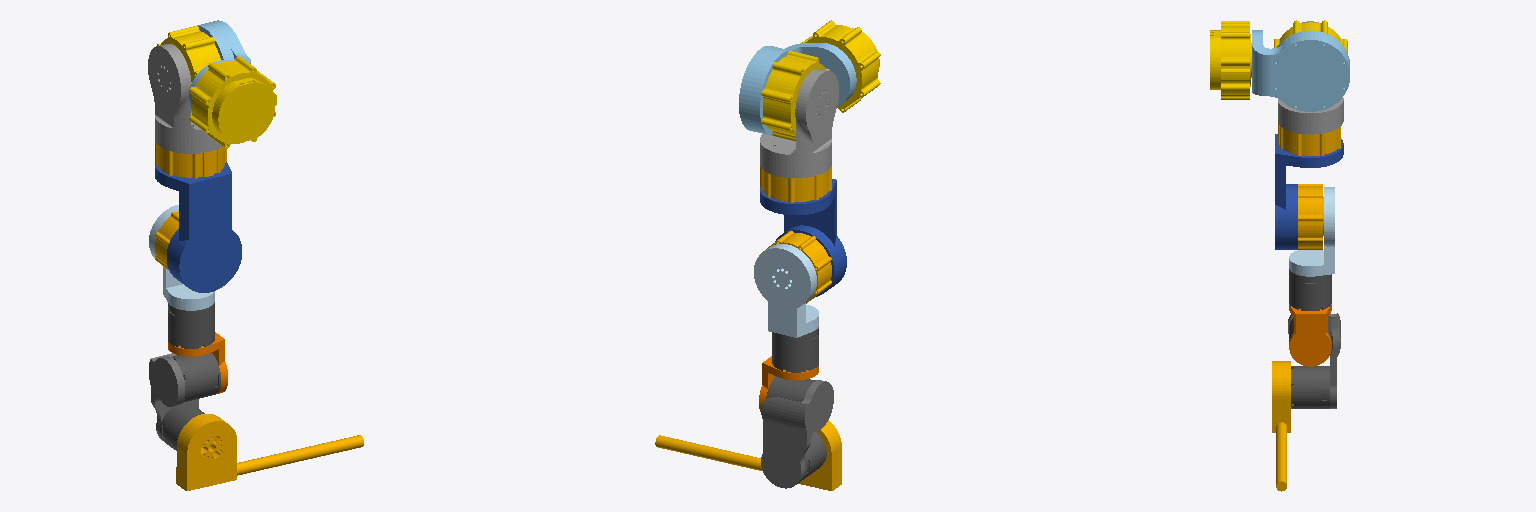
The robot description file, URDF, robot "moving_asm":
<!--URDF generated by ONSHAPE BY PTC INC, 1.222-->
<robot name="moving_asm">
    <link name="part_1">
        <inertial>
            <mass value="0.758773" />
            <origin xyz="-0.0549505 0.0277132 -1.45233e-10" rpy="0 -0 0" />
            <inertia ixx="0.000845098" ixy="0.000353007" ixz="-2.07044e-12" iyy="0.00172468" iyz="1.04998e-11" izz="0.00152771" />
        </inertial>
        <visual>
            <origin xyz="0.02225 0 -1.19451e-17" rpy="0 -0 0" />
            <geometry>
                <mesh filename="../meshes/Part_1.stl" scale="1 1 1" />
            </geometry>
            <material name="0.615686_0.811765_0.929412_0.000000_0.000000">
                <color rgba="0.615686 0.811765 0.929412 1" />
            </material>
        </visual>
    </link>
    <link name="part_2">
        <inertial>
            <mass value="0.6048" />
            <origin xyz="-9.70828e-10 0.0094096 -0.0439664" rpy="0 -0 0" />
            <inertia ixx="0.00104468" ixy="-1.01831e-11" ixz="7.97757e-13" iyy="0.00101922" iyz="0.000258101" izz="0.00063267" />
        </inertial>
        <visual>
            <origin xyz="0.1 0.02225 -1.03597e-16" rpy="0 -0 0" />
            <geometry>
                <mesh filename="../meshes/Part_2.stl" scale="1 1 1" />
            </geometry>
            <material name="0.647059_0.647059_0.647059_0.000000_0.000000">
                <color rgba="0.647059 0.647059 0.647059 1" />
            </material>
        </visual>
    </link>
    <link name="part_3">
        <inertial>
            <mass value="0.738336" />
            <origin xyz="0.0252949 -9.38948e-17 -0.0600722" rpy="0 -0 0" />
            <inertia ixx="0.00212759" ixy="0" ixz="0.000420687" iyy="0.00211255" iyz="0" izz="0.00074726" />
        </inertial>
        <visual>
            <origin xyz="0.1 9.99201e-19 0.123" rpy="0 -0 0" />
            <geometry>
                <mesh filename="../meshes/Part_3.stl" scale="1 1 1" />
            </geometry>
            <material name="0.231373_0.380392_0.705882_0.000000_0.000000">
                <color rgba="0.231373 0.380392 0.705882 1" />
            </material>
        </visual>
    </link>
    <link name="part_4">
        <inertial>
            <mass value="0.354697" />
            <origin xyz="-0.000120713 1.81229e-16 -0.0275367" rpy="0 -0 0" />
            <inertia ixx="0.000547149" ixy="0" ixz="0.000102789" iyy="0.0005083" iyz="0" izz="0.000186138" />
        </inertial>
        <visual>
            <origin xyz="0.118 -5.54748e-130 0.23" rpy="0 -0 0" />
            <geometry>
                <mesh filename="../meshes/Part_4.stl" scale="1 1 1" />
            </geometry>
            <material name="0.768627_0.886275_0.952941_0.000000_0.000000">
                <color rgba="0.768627 0.886275 0.952941 1" />
            </material>
        </visual>
    </link>
    <link name="part_5">
        <inertial>
            <mass value="0.163622" />
            <origin xyz="-1.22125e-15 0.0179789 -0.0245479" rpy="0 -0 0" />
            <inertia ixx="0.000138412" ixy="0" ixz="0" iyy="0.000120435" iyz="4.03301e-05" izz="8.44792e-05" />
        </inertial>
        <visual>
            <origin xyz="0.1 -9.97466e-18 0.3558" rpy="0 -0 0" />
            <geometry>
                <mesh filename="../meshes/Part_5.stl" scale="1 1 1" />
            </geometry>
            <material name="0.972549_0.529412_0.003922_0.000000_0.000000">
                <color rgba="0.972549 0.529412 0.00392157 1" />
            </material>
        </visual>
    </link>
    <link name="part_6">
        <inertial>
            <mass value="0.258995" />
            <origin xyz="-0.0219713 0.0137633 -0.0277527" rpy="0 -0 0" />
            <inertia ixx="0.000386436" ixy="4.68119e-05" ixz="-6.16559e-05" iyy="0.000370103" iyz="7.56322e-05" izz="0.000167163" />
        </inertial>
        <visual>
            <origin xyz="0.1 0.0258 0.405" rpy="0 -0 0" />
            <geometry>
                <mesh filename="../meshes/Part_6.stl" scale="1 1 1" />
            </geometry>
            <material name="0.498039_0.498039_0.498039_0.000000_0.000000">
                <color rgba="0.498039 0.498039 0.498039 1" />
            </material>
        </visual>
    </link>
    <link name="part_7">
        <inertial>
            <mass value="0.427991" />
            <origin xyz="0.0125 0.0248172 -0.0181889" rpy="0 -0 0" />
            <inertia ixx="0.00169483" ixy="0" ixz="0" iyy="0.000282673" iyz="0.000282319" izz="0.0014502" />
        </inertial>
        <visual>
            <origin xyz="0.0742 -2.44411e-16 0.48" rpy="0 -0 0" />
            <geometry>
                <mesh filename="../meshes/Part_7.stl" scale="1 1 1" />
            </geometry>
            <material name="0.980392_0.713725_0.003922_0.000000_0.000000">
                <color rgba="0.980392 0.713726 0.00392157 1" />
            </material>
        </visual>
    </link>
    <link name="root" />
    <link name="rs00">
        <!-- RS00 catalog mass; CAD COM retained and inertia scaled with mass (uniform-density approximation). -->
        <inertial>
            <mass value="0.31" />
            <origin xyz="-2.64946e-10 3.45704e-07 -0.0252887" rpy="0 -0 0" />
            <inertia ixx="0.000128946117522" ixy="1.38310246427e-08" ixz="0" iyy="0.000128254901961" iyz="-1.96536432436e-09" izz="0.000125912718516" />
        </inertial>
        <visual>
            <origin xyz="-3.46945e-16 3.40006e-16 -0.0256" rpy="0 -0 0" />
            <geometry>
                <mesh filename="../meshes/RS00.stl" scale="1 1 1" />
            </geometry>
            <material name="0.400000_0.400000_0.400000_0.000000_0.000000">
                <color rgba="0.4 0.4 0.4 1" />
            </material>
        </visual>
    </link>
    <link name="rs00_1">
        <!-- RS00 catalog mass; CAD COM retained and inertia scaled with mass (uniform-density approximation). -->
        <inertial>
            <mass value="0.31" />
            <origin xyz="-2.64946e-10 3.45704e-07 -0.0252887" rpy="0 -0 0" />
            <inertia ixx="0.000128946117522" ixy="1.38310246427e-08" ixz="0" iyy="0.000128254901961" iyz="-1.96536432436e-09" izz="0.000125912718516" />
        </inertial>
        <visual>
            <origin xyz="-3.46945e-16 3.40006e-16 -0.0256" rpy="0 -0 0" />
            <geometry>
                <mesh filename="../meshes/RS00.stl" scale="1 1 1" />
            </geometry>
            <material name="0.400000_0.400000_0.400000_0.000000_0.000000">
                <color rgba="0.4 0.4 0.4 1" />
            </material>
        </visual>
    </link>
    <link name="rs00_2">
        <!-- RS00 catalog mass; CAD COM retained and inertia scaled with mass (uniform-density approximation). -->
        <inertial>
            <mass value="0.31" />
            <origin xyz="-2.64946e-10 3.45704e-07 -0.0252887" rpy="0 -0 0" />
            <inertia ixx="0.000128946117522" ixy="1.38310246427e-08" ixz="0" iyy="0.000128254901961" iyz="-1.96536432436e-09" izz="0.000125912718516" />
        </inertial>
        <visual>
            <origin xyz="-3.46945e-16 3.40006e-16 -0.0256" rpy="0 -0 0" />
            <geometry>
                <mesh filename="../meshes/RS00.stl" scale="1 1 1" />
            </geometry>
            <material name="0.400000_0.400000_0.400000_0.000000_0.000000">
                <color rgba="0.4 0.4 0.4 1" />
            </material>
        </visual>
    </link>
    <link name="rs03output">
        <inertial>
            <mass value="0.983563" />
            <origin xyz="0.000295614 8.92089e-17 0.0293415" rpy="0 -0 0" />
            <inertia ixx="0.000746369" ixy="0" ixz="-1.54556e-06" iyy="0.000764755" iyz="0" izz="0.00105604" />
        </inertial>
        <visual>
            <origin xyz="-5.37764e-17 1.15931e-16 0.0566" rpy="0 -0 0" />
            <geometry>
                <mesh filename="../meshes/rs03output.stl" scale="1 1 1" />
            </geometry>
            <material name="0.972549_0.819608_0.000000_0.000000_0.000000">
                <color rgba="0.972549 0.819608 0 1" />
            </material>
        </visual>
    </link>
    <link name="rs03output_1">
        <inertial>
            <mass value="0.983563" />
            <origin xyz="0.000295614 8.92089e-17 0.0293415" rpy="0 -0 0" />
            <inertia ixx="0.000746369" ixy="0" ixz="-1.54556e-06" iyy="0.000764755" iyz="0" izz="0.00105604" />
        </inertial>
        <visual>
            <origin xyz="-5.37764e-17 1.15931e-16 0.0566" rpy="0 -0 0" />
            <geometry>
                <mesh filename="../meshes/rs03output.stl" scale="1 1 1" />
            </geometry>
            <material name="0.972549_0.819608_0.000000_0.000000_0.000000">
                <color rgba="0.972549 0.819608 0 1" />
            </material>
        </visual>
    </link>
    <link name="rs06">
        <!-- RS06 catalog mass; CAD COM retained and inertia scaled with mass (uniform-density approximation). -->
        <inertial>
            <mass value="0.621" />
            <origin xyz="-0.000202884 -4.03172e-07 -0.0262731" rpy="0 -0 0" />
            <inertia ixx="0.000359101165798" ixy="-3.18123584672e-10" ixz="-7.69392418329e-07" iyy="0.00036944903982" iyz="3.93146322139e-10" izz="0.000497356572444" />
        </inertial>
        <visual>
            <origin xyz="0 0 -0.049" rpy="0 -0 0" />
            <geometry>
                <mesh filename="../meshes/RS06.stl" scale="1 1 1" />
            </geometry>
            <material name="0.980392_0.713725_0.003922_0.000000_0.000000">
                <color rgba="0.980392 0.713726 0.00392157 1" />
            </material>
        </visual>
    </link>
    <link name="rs06_1">
        <!-- RS06 catalog mass; CAD COM retained and inertia scaled with mass (uniform-density approximation). -->
        <inertial>
            <mass value="0.621" />
            <origin xyz="-0.000202884 -4.03172e-07 -0.0262731" rpy="0 -0 0" />
            <inertia ixx="0.000359101165798" ixy="-3.18123584672e-10" ixz="-7.69392418329e-07" iyy="0.00036944903982" iyz="3.93146322139e-10" izz="0.000497356572444" />
        </inertial>
        <visual>
            <origin xyz="0 0 -0.049" rpy="0 -0 0" />
            <geometry>
                <mesh filename="../meshes/RS06.stl" scale="1 1 1" />
            </geometry>
            <material name="0.980392_0.713725_0.003922_0.000000_0.000000">
                <color rgba="0.980392 0.713726 0.00392157 1" />
            </material>
        </visual>
    </link>
    <joint name="fastened_1" type="fixed">
        <origin xyz="5.37764e-17 -4.85723e-17 4.90841e-18" rpy="-1.5708 0 0" />
        <axis xyz="0 0 -1" />
        <parent link="root" />
        <child link="rs03output" />
    </joint>
    <joint name="fastened_2" type="fixed">
        <origin xyz="-0.07775 0.03435 8.6492e-17" rpy="0 1.5708 -1.5708" />
        <axis xyz="0 0 -1" />
        <parent link="part_1" />
        <child link="rs03output_1" />
    </joint>
    <joint name="fastened_3" type="fixed">
        <origin xyz="-3.60822e-16 0.02225 -0.0725" rpy="5.55112e-17 2.77556e-17 -3.14159" />
        <axis xyz="0 0 1" />
        <parent link="part_2" />
        <child link="rs06_1" />
    </joint>
    <joint name="fastened_4" type="fixed">
        <origin xyz="0.0325 -1.02352e-16 -0.107" rpy="0 -1.5708 3.14159" />
        <axis xyz="0 0 1" />
        <parent link="part_3" />
        <child link="rs06" />
    </joint>
    <joint name="fastened_5" type="fixed">
        <origin xyz="0.018 2.44937e-16 -0.0744" rpy="-1.38778e-16 1.07236e-30 1.5708" />
        <axis xyz="0 0 1" />
        <parent link="part_4" />
        <child link="rs00_2" />
    </joint>
    <joint name="fastened_6" type="fixed">
        <origin xyz="5.55112e-17 0.0256 -0.0492" rpy="-1.5708 -7.05057e-16 -5.40672e-18" />
        <axis xyz="0 0 1" />
        <parent link="part_5" />
        <child link="rs00" />
    </joint>
    <joint name="fastened_7" type="fixed">
        <origin xyz="-0.0256 0.0258 -0.075" rpy="-1.5708 3.05311e-15 1.5708" />
        <axis xyz="0 0 1" />
        <parent link="part_6" />
        <child link="rs00_1" />
    </joint>
    <joint name="revolute_1" type="continuous">
        <origin xyz="-5.37764e-17 1.15931e-16 0.0566" rpy="0 1.5708 -1.5708" />
        <axis xyz="1 0 0" />
        <parent link="rs03output" />
        <child link="part_1" />
        <!-- RobStride 03: peak Nm and no-load rad/s; rated values and envelope in moving_asm.sim.yaml. -->
        <limit effort="60" velocity="20.4203522483337" />
    </joint>
    <joint name="revolute_2" type="revolute">
        <origin xyz="-5.37764e-17 5.55112e-17 0.0566" rpy="-1.5708 -0 1.5708" />
        <axis xyz="-1.30963e-31 1 3.46945e-17" />
        <parent link="rs03output_1" />
        <child link="part_2" />
        <!-- RobStride 03: peak Nm and no-load rad/s; rated values and envelope in moving_asm.sim.yaml. -->
        <limit lower="-0.3490658503988659" upper="3.490658503988659" effort="60" velocity="20.4203522483337" />
    </joint>
    <joint name="revolute_3" type="continuous">
        <origin xyz="2.77556e-17 -5.91058e-17 -0.0505" rpy="5.55112e-17 2.77556e-17 3.14159" />
        <axis xyz="-2.77556e-17 5.55112e-17 1" />
        <parent link="rs06_1" />
        <child link="part_3" />
        <!-- RobStride 06: peak Nm and no-load rad/s; rated values and envelope in moving_asm.sim.yaml. -->
        <limit effort="36" velocity="50.2654824574367" />
    </joint>
    <joint name="revolute_4" type="revolute">
        <origin xyz="0 -1.65662e-16 -0.0505" rpy="0 -1.5708 3.14159" />
        <axis xyz="1 -1.67522e-43 2.498e-16" />
        <parent link="rs06" />
        <child link="part_4" />
        <!-- RobStride 06: peak Nm and no-load rad/s; rated values and envelope in moving_asm.sim.yaml. -->
        <limit lower="-2.356194490192345" upper="2.356194490192345" effort="36" velocity="50.2654824574367" />
    </joint>
    <joint name="revolute_5" type="continuous">
        <origin xyz="-2.32187e-16 3.88578e-16 -0.0514" rpy="2.46519e-32 1.38778e-16 -1.5708" />
        <axis xyz="-1.38778e-16 0 1" />
        <parent link="rs00_2" />
        <child link="part_5" />
        <!-- RobStride 00: peak Nm and no-load rad/s; rated values and envelope in moving_asm.sim.yaml. -->
        <limit effort="14" velocity="32.9867228626928" />
    </joint>
    <joint name="revolute_6" type="revolute">
        <origin xyz="-3.33067e-16 3.33067e-16 -0.0514" rpy="1.5708 3.46945e-16 2.71051e-18" />
        <axis xyz="-3.51824e-16 1 3.60308e-17" />
        <parent link="rs00" />
        <child link="part_6" />
        <!-- RobStride 00: peak Nm and no-load rad/s; rated values and envelope in moving_asm.sim.yaml. -->
        <limit lower="-1.5707963267948966" upper="0.8726646259971648" effort="14" velocity="32.9867228626928" />
    </joint>
    <joint name="revolute_7" type="revolute">
        <origin xyz="-3.25104e-16 2.77556e-16 -0.0514" rpy="0 1.5708 -1.5708" />
        <axis xyz="-1 9.14923e-16 8.45215e-16" />
        <parent link="rs00_1" />
        <child link="part_7" />
        <!-- RobStride 00: peak Nm and no-load rad/s; rated values and envelope in moving_asm.sim.yaml. -->
        <limit lower="-0.9773843811168246" upper="1.2217304763960306" effort="14" velocity="32.9867228626928" />
    </joint>
</robot>

--- Facts derived from the render (not from the file) ---
The picture shows the robot from 3 angles, left to right: view 1: azimuth 30°, elevation 25°; view 2: azimuth 150°, elevation 25°; view 3: azimuth 270°, elevation 25°; orthographic projection.
Model moving_asm with 15 links and 14 joints (4 revolute, 3 continuous, 7 fixed), rooted at root, posed all joints at 0.
Visible links, largest first — view 1: part_3, rs03output, part_7, part_2, part_6, rs00_2, rs06_1, rs00, part_4, rs03output_1, part_1, rs00_1 (+2 smaller); view 2: part_2, part_6, part_4, part_1, part_3, rs03output_1, part_7, rs03output, rs00_2, rs06_1, rs06, rs00 (+2 smaller); view 3: part_1, rs03output, part_3, part_5, part_7, part_4, rs06, rs00_1, part_2, rs00_2, rs06_1, part_6 (+1 smaller).
Boxes of the visible links, x1,y1,x2,y2 form: part_3: [155, 162, 241, 292]; rs03output: [189, 56, 276, 148]; part_7: [176, 414, 363, 490]; part_2: [148, 44, 221, 153]; part_6: [149, 353, 198, 440]; rs00_2: [168, 302, 214, 348]; rs06_1: [155, 142, 226, 178]; rs00: [172, 352, 220, 402]; part_4: [149, 205, 214, 310]; rs03output_1: [157, 26, 220, 114]; part_1: [189, 20, 250, 110]; rs00_1: [160, 403, 204, 450]; part_2: [760, 69, 838, 177]; part_6: [761, 380, 833, 488]; part_4: [754, 244, 818, 337]; part_1: [739, 43, 856, 135]; part_3: [760, 179, 846, 296]; rs03output_1: [761, 51, 829, 141]; part_7: [655, 420, 841, 490]; rs03output: [802, 20, 880, 112]; rs00_2: [772, 327, 818, 372]; rs06_1: [760, 166, 831, 202]; rs06: [762, 231, 831, 303]; rs00: [766, 376, 815, 402]; part_1: [1252, 30, 1349, 111]; rs03output: [1210, 21, 1251, 99]; part_3: [1275, 134, 1343, 249]; part_5: [1289, 304, 1331, 366]; part_7: [1272, 361, 1290, 491]; part_4: [1289, 187, 1334, 276]; rs06: [1298, 184, 1323, 249]; rs00_1: [1291, 366, 1329, 408]; part_2: [1278, 21, 1343, 134]; rs00_2: [1289, 269, 1331, 310]; rs06_1: [1278, 124, 1340, 155]; part_6: [1288, 313, 1340, 408].
Size in the robot's own frame: 0.2637 by 0.1874 by 0.5862 metres.
Meshes: 10 distinct files referenced, 14 mesh visuals loaded (10 binary STL).
